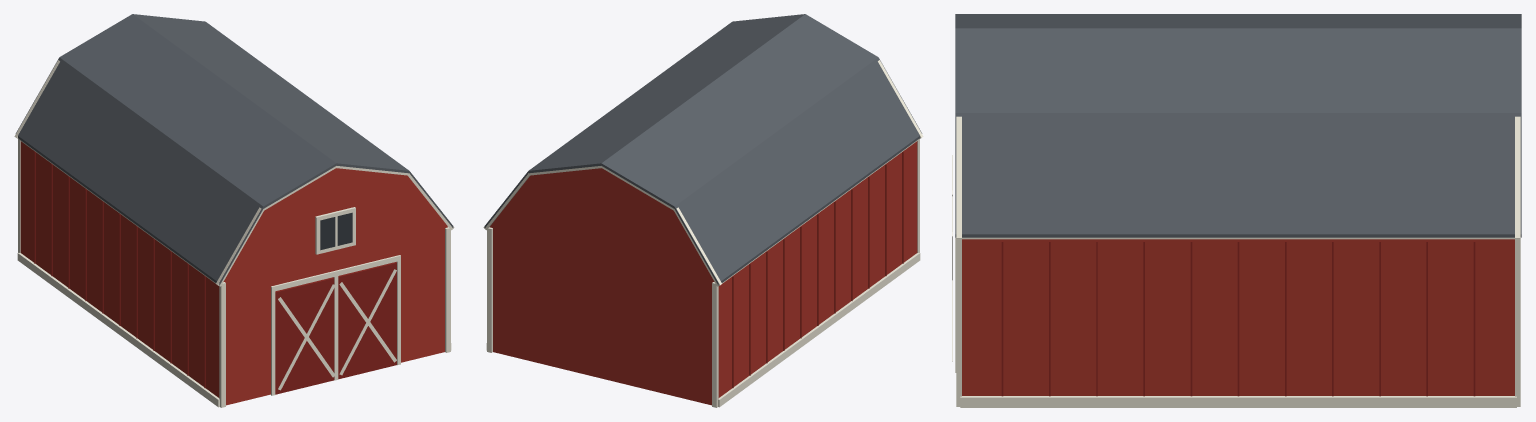
Rendered from barn.glb.
The picture shows the model from 3 angles, left to right: view 1: azimuth 30°, elevation 25°; view 2: azimuth 150°, elevation 25°; view 3: azimuth 270°, elevation 25°; orthographic projection. The views are drawn at different scales.
Visible parts, largest first — view 1: body; view 2: body; view 3: body.
Part boxes in pixels (left/top/right/bottom): body: left=14, top=14, right=454, bottom=407; body: left=483, top=14, right=923, bottom=407; body: left=952, top=14, right=1521, bottom=407.
Bounding box in the file's own units: 8 × 7 × 12.
